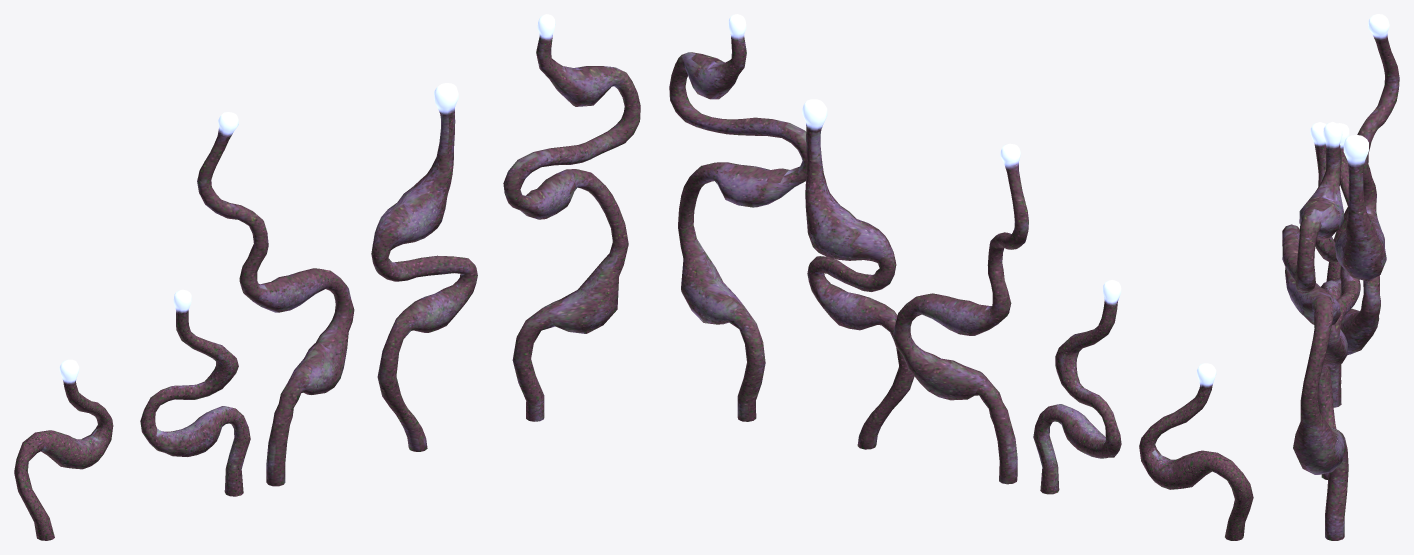
File: alienPlants2_edit_for_FBX.fbx
The picture shows the model from 3 angles, left to right: view 1: azimuth 30°, elevation 25°; view 2: azimuth 150°, elevation 25°; view 3: azimuth 270°, elevation 25°; orthographic projection. The views are drawn at different scales.
Parts seen in each view (by area): view 1: plants05, plants04, plants03, plants02, plants01; view 2: plants05, plants04, plants03, plants02, plants01; view 3: plants05, plants04, plants03, plants02, plants01.
Part boxes in pixels (x1=…): plants05: x1=503, y1=14, x2=640, y2=421; plants04: x1=371, y1=83, x2=477, y2=451; plants03: x1=197, y1=112, x2=354, y2=486; plants02: x1=140, y1=289, x2=250, y2=496; plants01: x1=14, y1=359, x2=113, y2=540; plants05: x1=669, y1=14, x2=806, y2=421; plants04: x1=802, y1=99, x2=914, y2=449; plants03: x1=892, y1=143, x2=1028, y2=484; plants02: x1=1033, y1=280, x2=1121, y2=494; plants01: x1=1139, y1=363, x2=1253, y2=540; plants05: x1=1282, y1=121, x2=1348, y2=540; plants04: x1=1318, y1=135, x2=1386, y2=479; plants03: x1=1330, y1=14, x2=1399, y2=407; plants02: x1=1310, y1=122, x2=1341, y2=383; plants01: x1=1326, y1=123, x2=1376, y2=281.
Size of the model in its own units: 7314 by 4667 by 1181.
